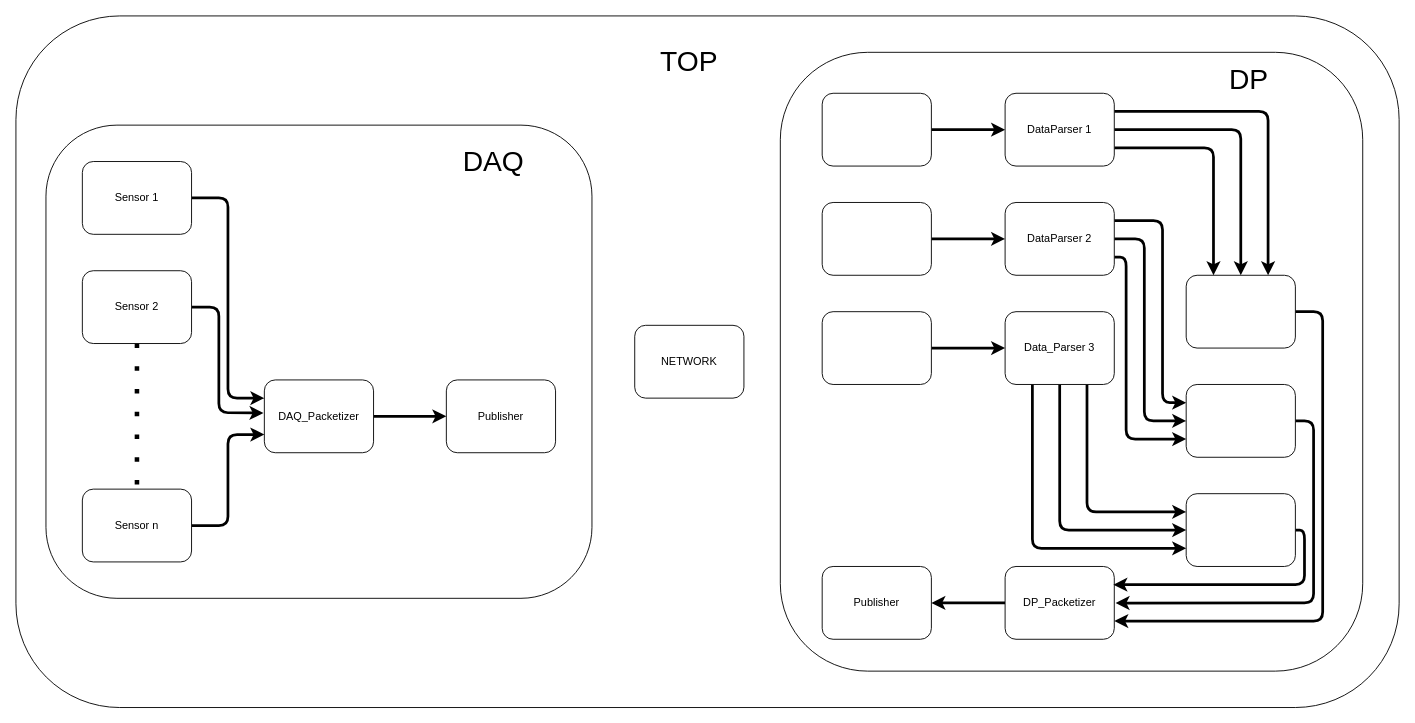
Some shapes in this 1415 by 723 pixel diagram are drawn without their labels. Each missing label, with the box of its shape:
Fusion 1: (1185, 274, 1295, 348)
Fusion 2: (1185, 384, 1295, 457)
Fusion 3: (1185, 493, 1295, 566)
Subscriber 1: (821, 92, 931, 166)
Subscriber 2: (821, 202, 931, 275)
Subscriber 3: (821, 311, 931, 384)
